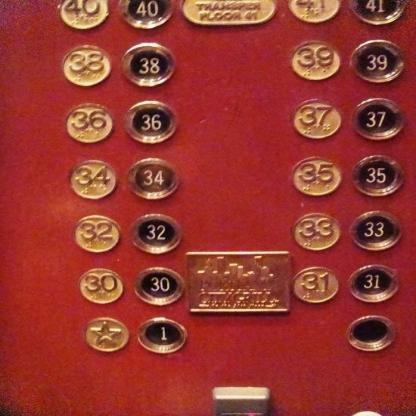1: (135, 314, 186, 355)
30: (74, 265, 126, 306), (132, 265, 183, 306)
31: (289, 264, 341, 305), (348, 264, 400, 304)
32: (68, 212, 122, 256), (129, 212, 182, 256)
33: (347, 210, 401, 251), (290, 210, 342, 251)
34: (124, 155, 178, 200), (66, 157, 119, 201)
35: (349, 154, 404, 197), (290, 154, 342, 196)
36: (60, 100, 116, 144), (122, 100, 178, 144)
37: (350, 95, 408, 141), (290, 98, 342, 138)
38: (58, 43, 113, 88), (120, 42, 176, 86)
39: (347, 38, 406, 84), (288, 39, 340, 80)
40: (120, 0, 171, 30)
empty: (345, 312, 396, 352)
s: (79, 314, 131, 355)
